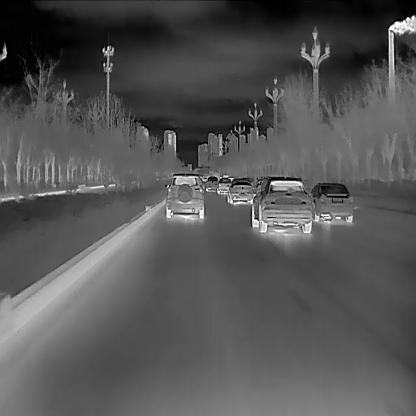car: (250, 174, 312, 231), (164, 170, 205, 218), (308, 180, 353, 222), (225, 177, 252, 204), (216, 177, 232, 193), (203, 174, 218, 191), (201, 172, 208, 180)
